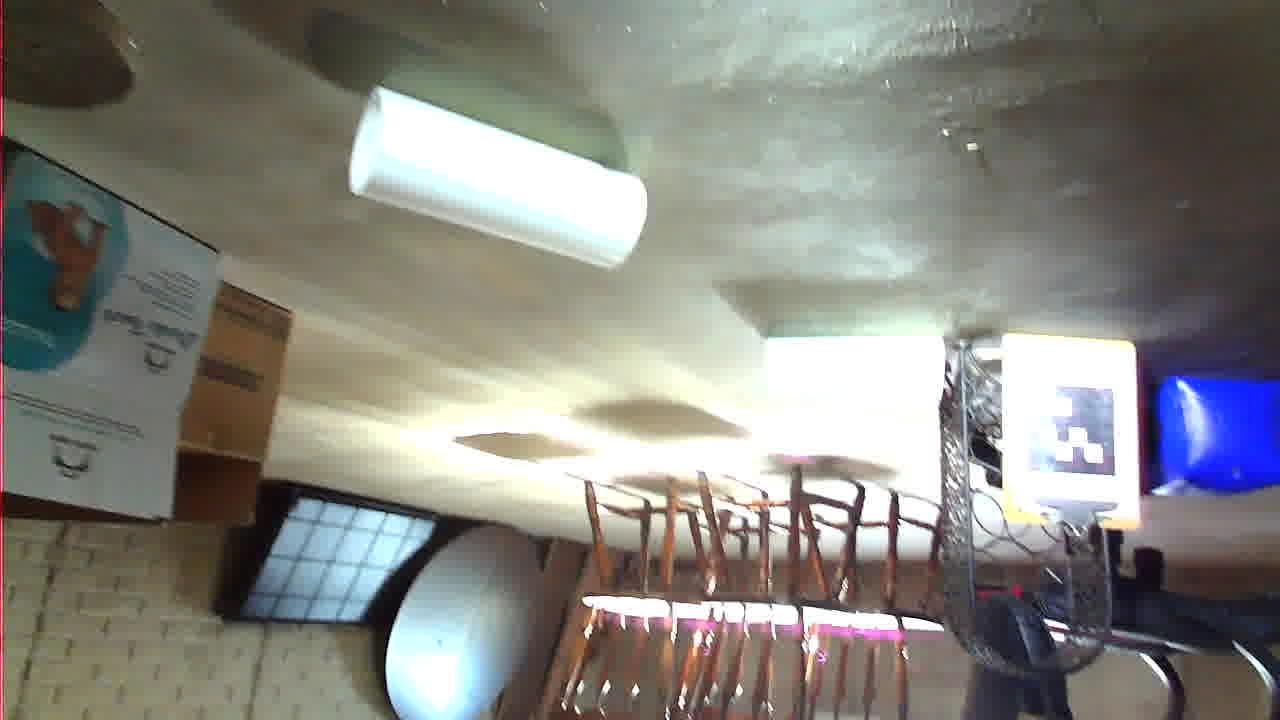coral: (634, 448, 933, 639), (335, 315, 522, 386)
